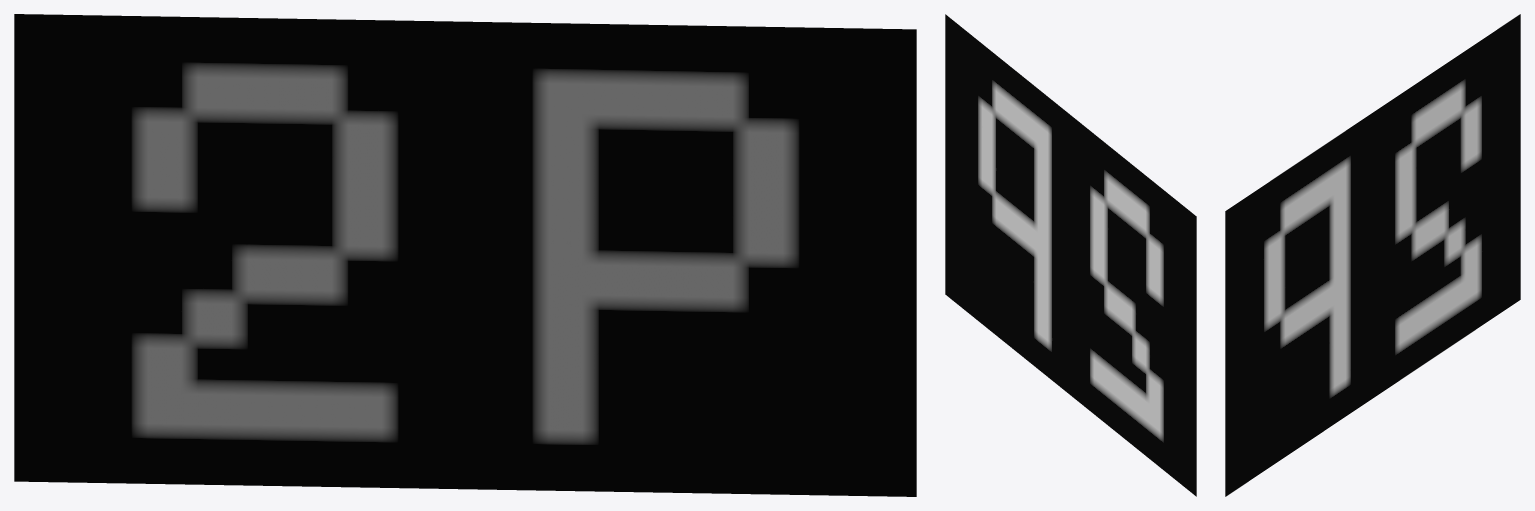
3 views of the same model, side by side, from view 1: azimuth 30°, elevation 25°; view 2: azimuth 150°, elevation 25°; view 3: azimuth 270°, elevation 25° (orthographic). The views are drawn at different scales.
Parts seen in each view (by area): view 1: Joint_0_Object_0; view 2: Joint_0_Object_0; view 3: Joint_0_Object_0.
Part boxes in pixels (x1,y1,x2,y2): Joint_0_Object_0: (14, 14, 916, 496); Joint_0_Object_0: (945, 14, 1196, 496); Joint_0_Object_0: (1225, 14, 1520, 496).
Size of the model in its own units: 47.33 by 32 by 29.94.
Materials: 1 (1 with a texture image).
